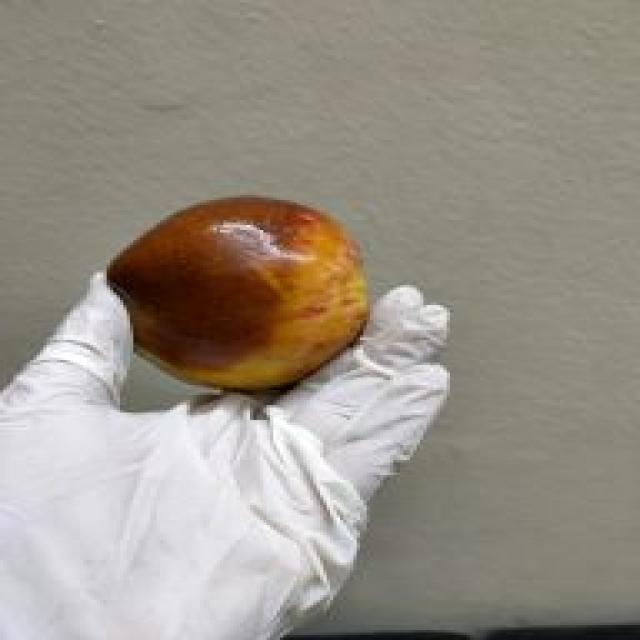Rotten_Apple: (104, 192, 374, 404)
